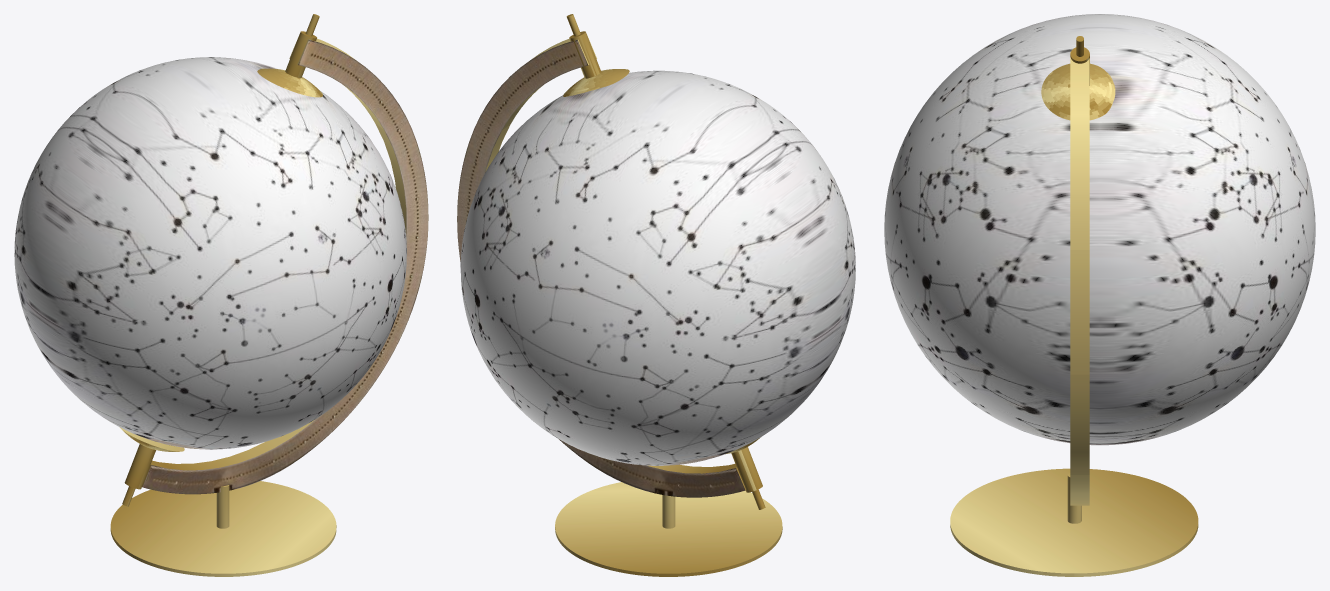
File: globeGLTF2.gltf
3 renders of one model, left to right at view 1: azimuth 30°, elevation 25°; view 2: azimuth 150°, elevation 25°; view 3: azimuth 270°, elevation 25°, orthographic. The views are drawn at different scales.
Visible parts, largest first — view 1: globeOBJ; view 2: globeOBJ; view 3: globeOBJ.
Part boxes in pixels (box(x1,y1,x2,y2)): globeOBJ: box(14, 14, 428, 576); globeOBJ: box(457, 14, 855, 576); globeOBJ: box(884, 14, 1315, 576).
Size of the model in its own units: 0.1225 by 0.1572 by 0.1112.
2 materials, 2 textured.
